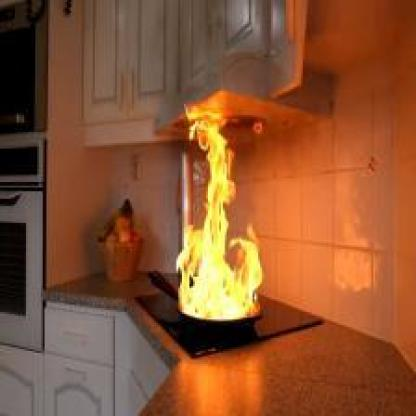Fire: (180, 107, 264, 315)
